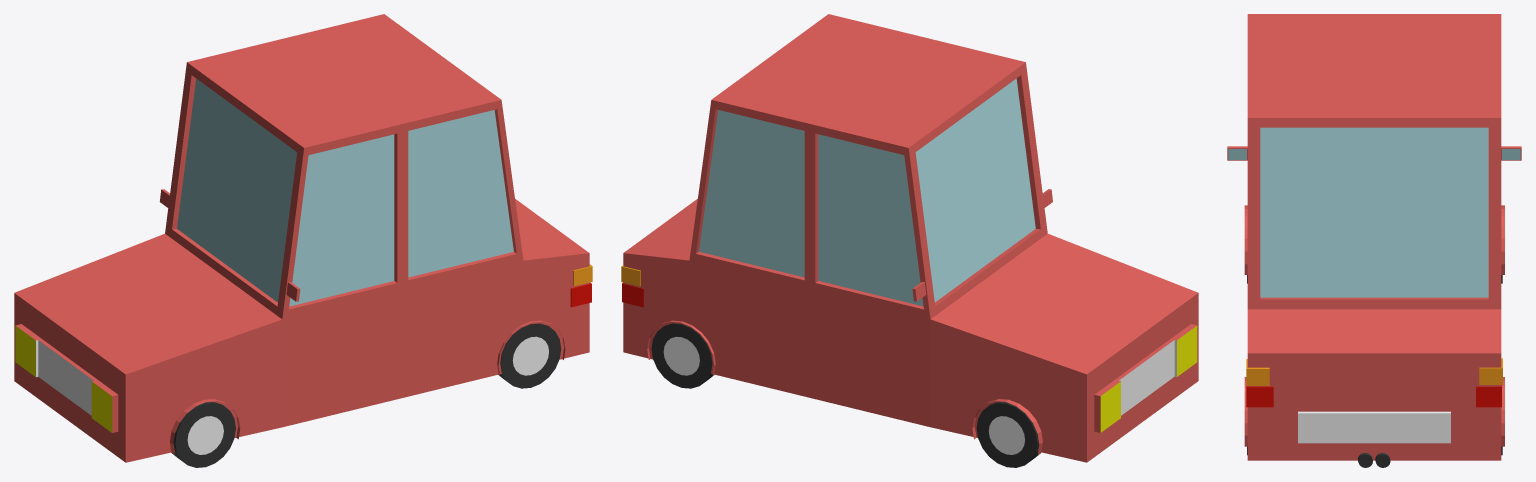
File: lowpolycar01.dae
The picture shows the model from 3 angles, left to right: view 1: azimuth 30°, elevation 25°; view 2: azimuth 150°, elevation 25°; view 3: azimuth 270°, elevation 25°; orthographic projection. The views are drawn at different scales.
Parts seen in each view (by area): view 1: car, FLWheel, RLWheel; view 2: car, FRWheel, RRWheel; view 3: car.
Boxes of the visible parts, left/top/right/bottom form: car: left=14, top=14, right=592, bottom=462; FLWheel: left=172, top=402, right=235, bottom=467; RLWheel: left=498, top=323, right=561, bottom=388; car: left=621, top=14, right=1198, bottom=462; FRWheel: left=976, top=402, right=1040, bottom=467; RRWheel: left=651, top=323, right=714, bottom=388; car: left=1227, top=14, right=1521, bottom=467.
Bounding box in the file's own units: 4.63 × 2.32 × 2.77.
